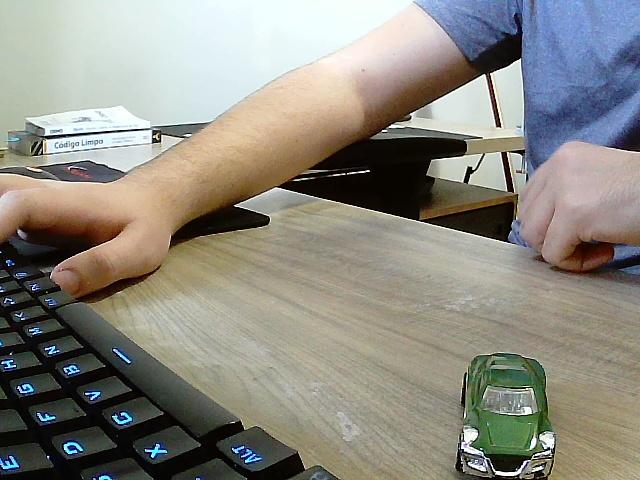Carro: (455, 354, 556, 479)
